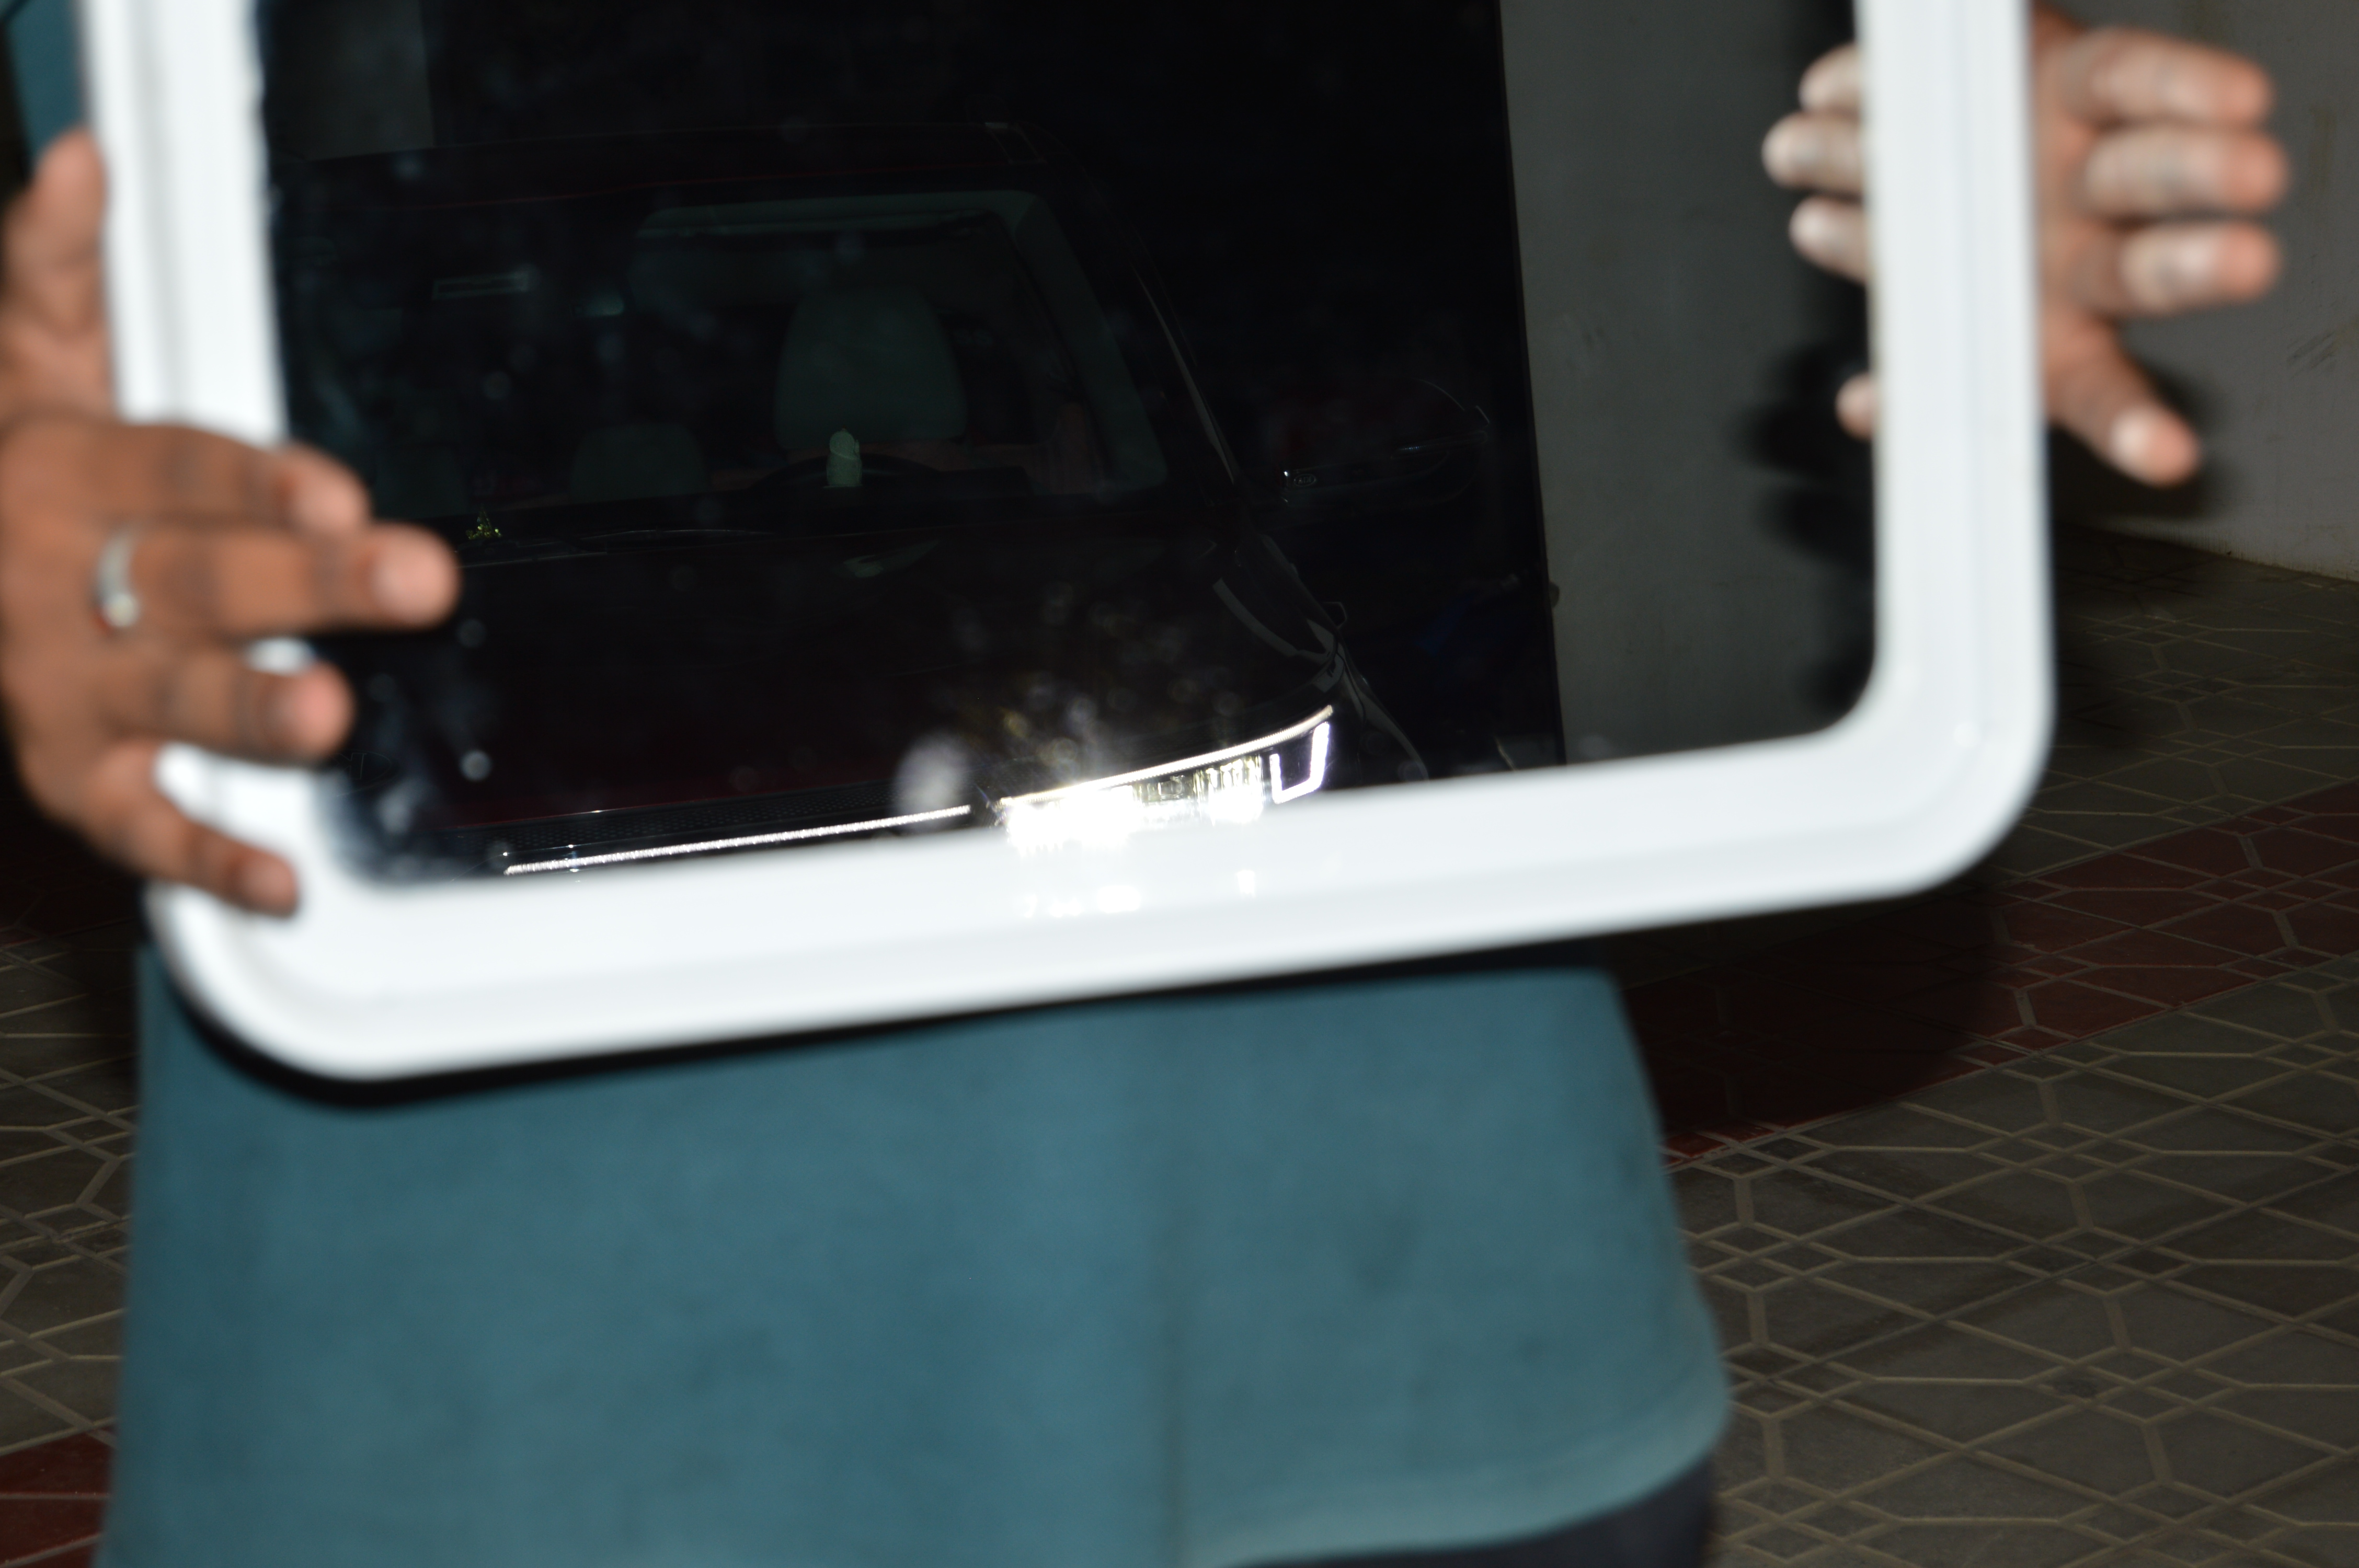Glare: (997, 789, 1277, 828)
